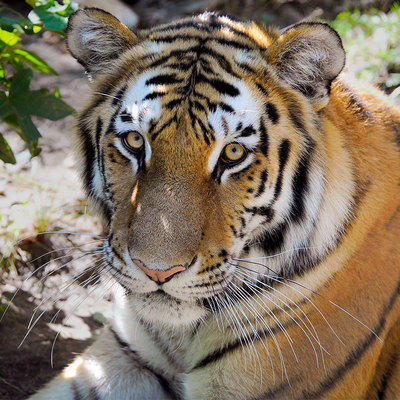Tiger: (37, 6, 400, 397)
